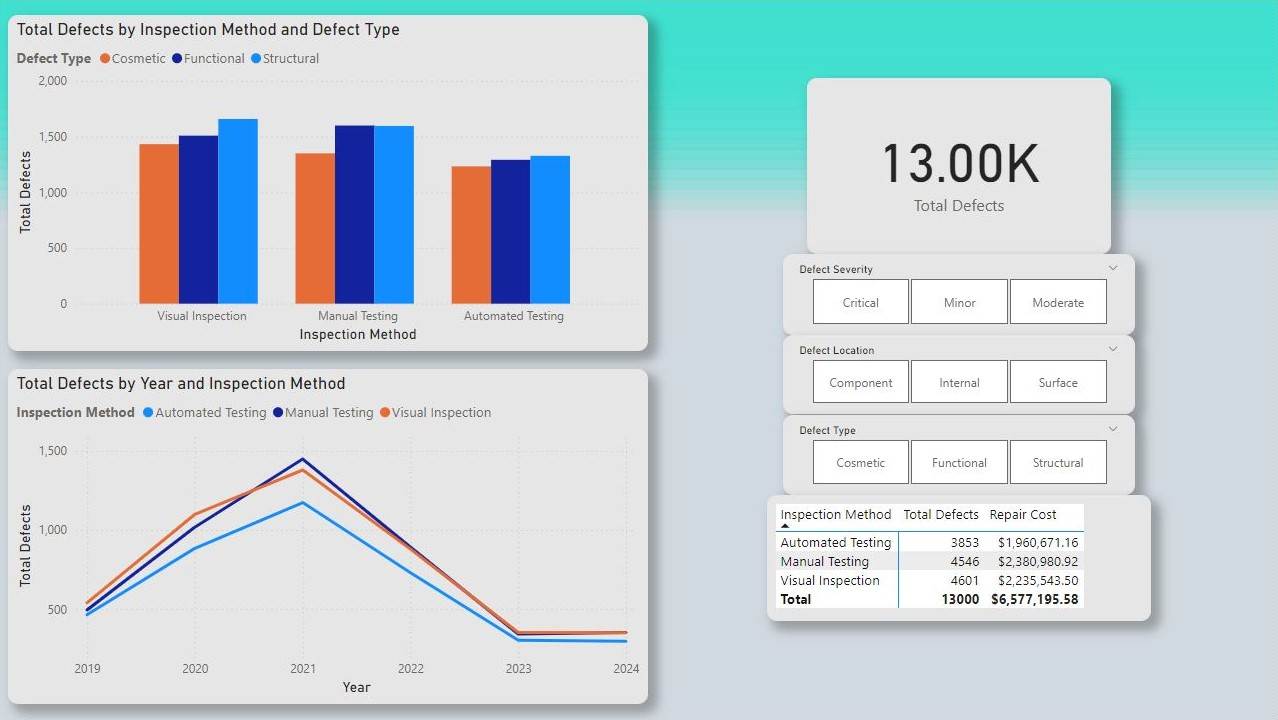

The dashboard page shown, as its layout file describes it:
{"tool":"powerbi","page":{"name":"Inspection","canvas":[1280,720],"ordinal":2},"visuals":[{"type":"card","fields":{"Values":["CountNonNull(defects_data.defect_id)"]},"box":[808.3,77.8,303.5,176],"z":0},{"type":"clusteredColumnChart","fields":{"Category":["defects_data.inspection_method"],"Series":["defects_data.defect_type"],"Y":["CountNonNull(defects_data.defect_id)"]},"box":[8.8,14.6,640,336.5],"z":1000},{"type":"lineChart","fields":{"Category":["defects_data.defect_date.Variation.Date Hierarchy.Year","defects_data.defect_date.Variation.Date Hierarchy.Month"],"Y":["CountNonNull(defects_data.defect_id)"],"Series":["defects_data.inspection_method"]},"box":[8.8,368.6,640,335.6],"z":2000},{"type":"slicer","fields":{"Values":["defects_data.severity"]},"box":[784,253.9,352.1,80.7],"z":4000},{"type":"slicer","fields":{"Values":["defects_data.defect_location"]},"box":[784,334.6,352.1,79.8],"z":5000},{"type":"slicer","fields":{"Values":["defects_data.defect_type"]},"box":[784,415.3,352.1,79.8],"z":6000},{"type":"pivotTable","fields":{"Values":["CountNonNull(defects_data.defect_id)","Sum(defects_data.repair_cost)"],"Rows":["defects_data.inspection_method"]},"box":[768.4,495.1,383.2,125.5],"z":9500}]}

Visuals, with their boxes in screenshot pixels (x1, y1, x2, y2), scaled from the page's 1280x720 canvas onto the 1278x720 screenshot:
card - CountNonNull(defects_data.defect_id): region(807, 78, 1110, 254)
clusteredColumnChart - defects_data.inspection_method x defects_data.defect_type: region(9, 15, 648, 351)
lineChart - defects_data.defect_date.Variation.Date Hierarchy.Year x defects_data.defect_date.Variation.Date Hierarchy.Month: region(9, 369, 648, 704)
slicer - defects_data.severity: region(783, 254, 1134, 335)
slicer - defects_data.defect_location: region(783, 335, 1134, 414)
slicer - defects_data.defect_type: region(783, 415, 1134, 495)
pivotTable - CountNonNull(defects_data.defect_id) x Sum(defects_data.repair_cost): region(767, 495, 1150, 621)
